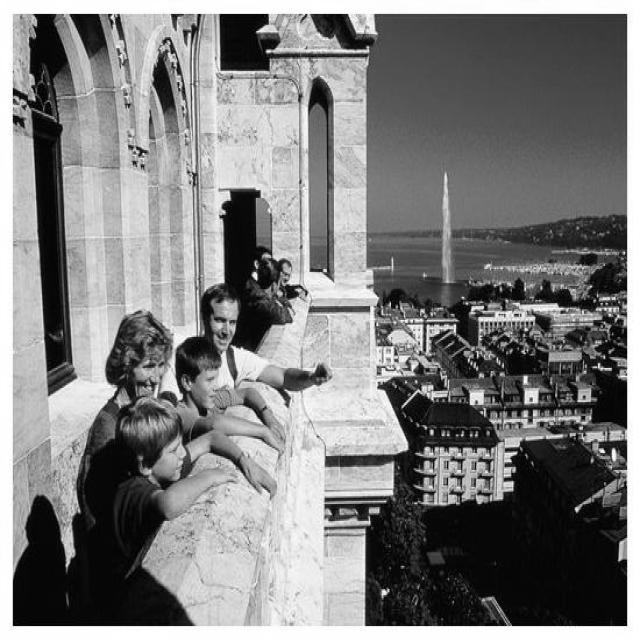person: (75, 396, 264, 623), (193, 284, 333, 460), (175, 336, 282, 491), (96, 292, 172, 424), (244, 258, 283, 332), (278, 250, 300, 294)
